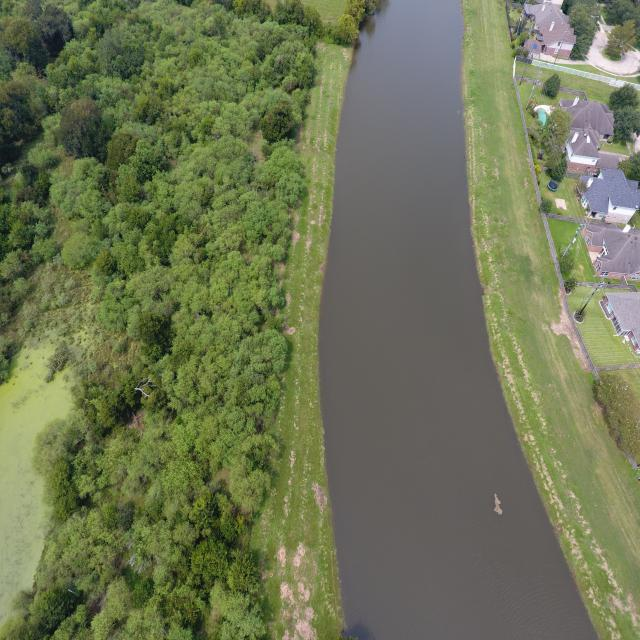fire: (319, 0, 597, 639)
